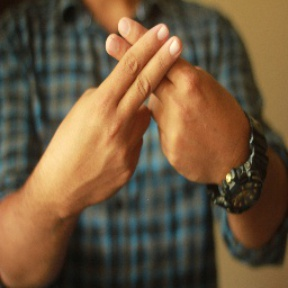F: (69, 10, 214, 149)
